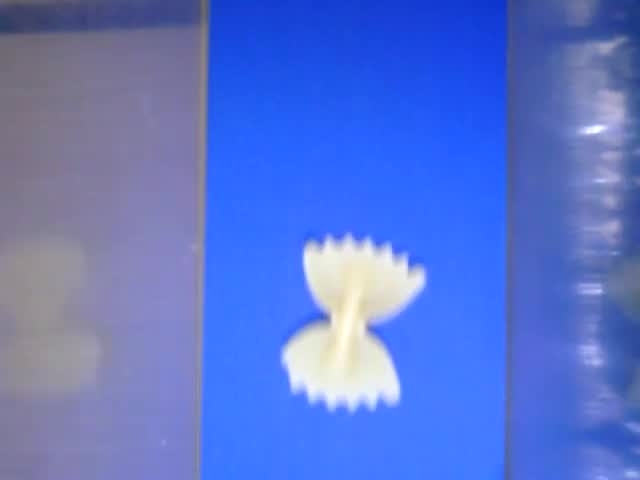farfalle: (284, 232, 424, 413)
